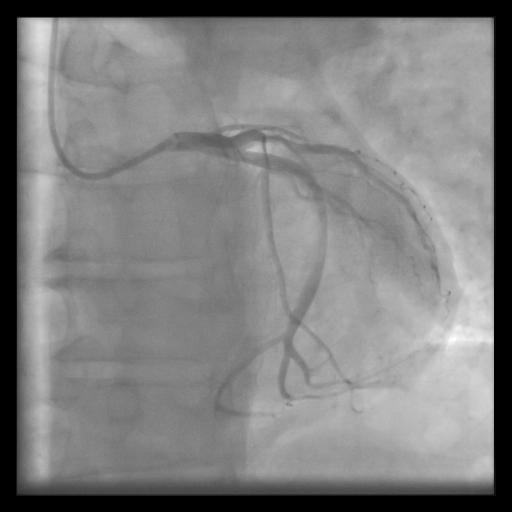Stenosis: (258, 141, 270, 171)
